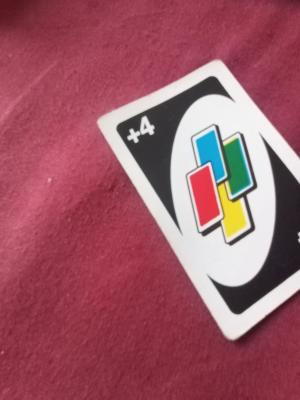wild-4: (117, 112, 280, 254)
